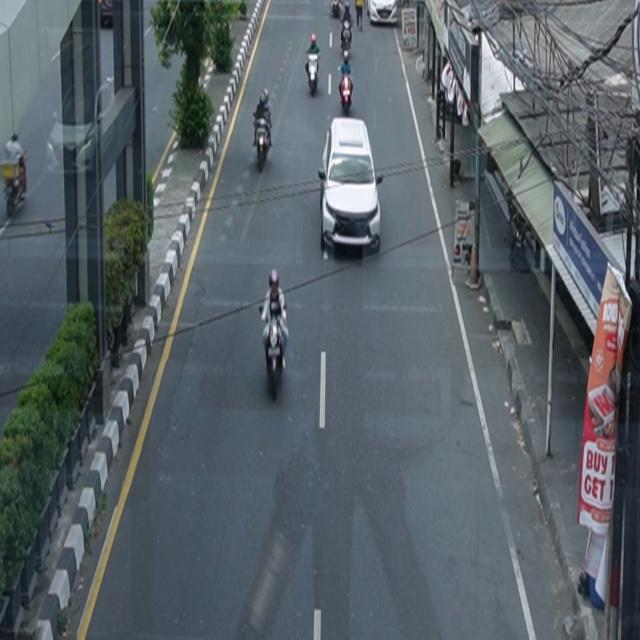car: (318, 117, 384, 257)
